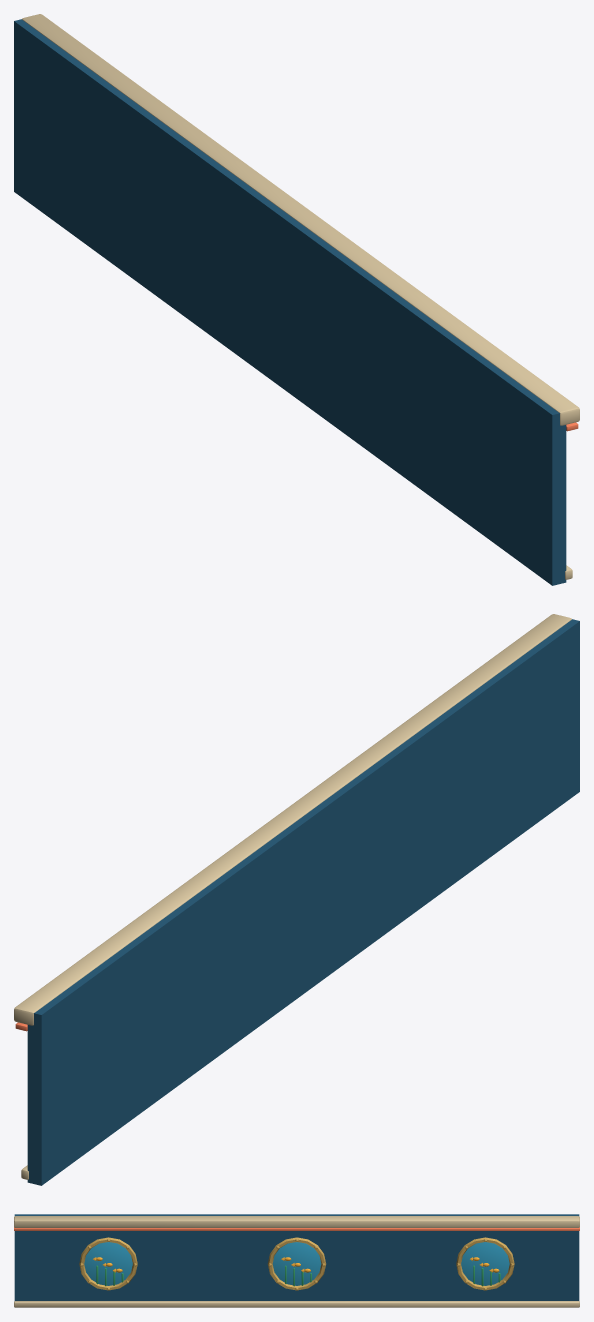
Rendered from WallReef.fbx.
3 views of the same model, one above another, from view 1: azimuth 30°, elevation 25°; view 2: azimuth 150°, elevation 25°; view 3: azimuth 270°, elevation 25° (orthographic). The views are drawn at different scales.
Visible parts, largest first — view 1: WallReef; view 2: WallReef; view 3: WallReef.
Boxes of the visible parts, bbox=[...] form: WallReef: bbox=[14, 14, 579, 585]; WallReef: bbox=[14, 614, 579, 1185]; WallReef: bbox=[14, 1214, 579, 1307].
Size of the model in its own units: 240 by 1410 by 8020.
